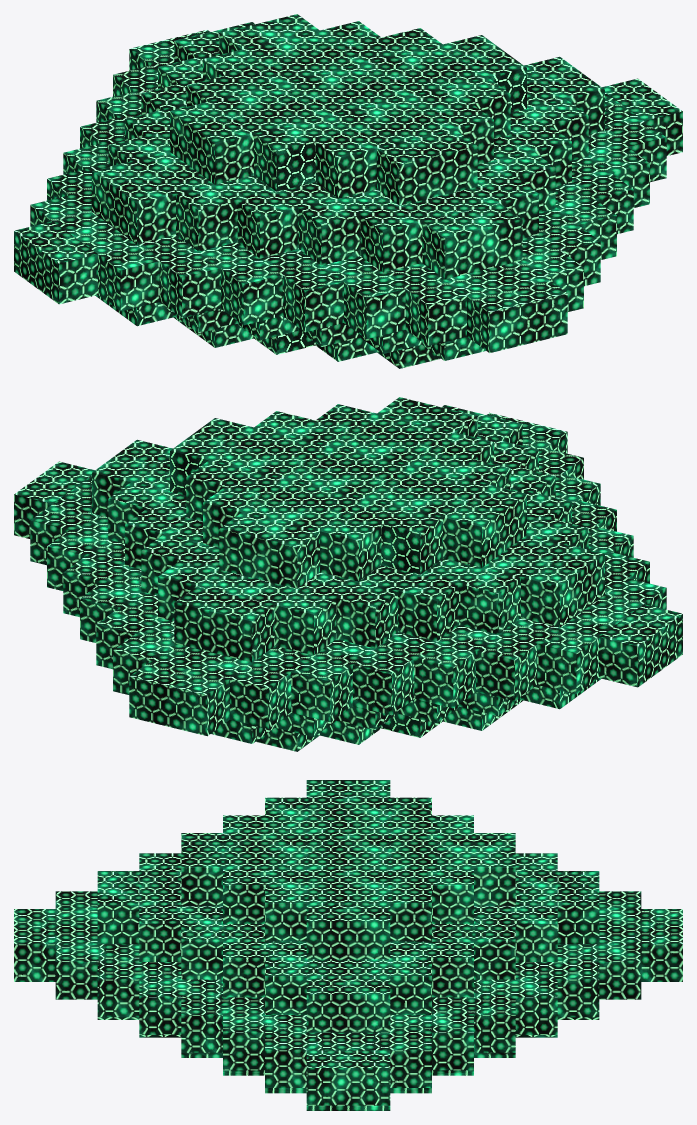
The model's file is entity15632.gltf.
3 renders of one model, top to bottom at view 1: azimuth 30°, elevation 25°; view 2: azimuth 150°, elevation 25°; view 3: azimuth 270°, elevation 25°, orthographic. The views are drawn at different scales.
Parts seen in each view (by area): view 1: node_Exhibit_Mushroom_Top_Art (0); view 2: node_Exhibit_Mushroom_Top_Art (0); view 3: node_Exhibit_Mushroom_Top_Art (0).
Boxes of the visible parts, box(x1,y1,x2,y2) form: node_Exhibit_Mushroom_Top_Art (0): box(14, 14, 682, 368); node_Exhibit_Mushroom_Top_Art (0): box(14, 397, 682, 751); node_Exhibit_Mushroom_Top_Art (0): box(14, 780, 682, 1110).
Size of what is drawn, in the model's own units: 21.28 by 6.65 by 21.28.
1 material, 1 textured.
